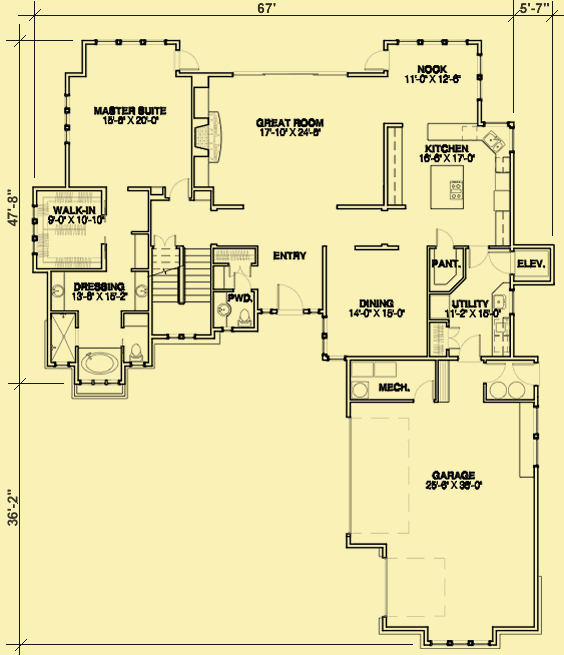door: (270, 279, 311, 314), (174, 45, 210, 79), (160, 174, 194, 205), (363, 47, 397, 78), (513, 358, 544, 388), (458, 333, 485, 366), (487, 250, 515, 281), (465, 243, 490, 273), (412, 379, 437, 408), (482, 359, 509, 385), (445, 324, 465, 354), (431, 224, 454, 247), (229, 270, 254, 291), (149, 233, 180, 248)
kitchen bar: (426, 159, 469, 215)
large sink: (125, 337, 147, 364), (236, 304, 256, 332)
small sink: (46, 270, 68, 317), (128, 269, 150, 312), (211, 291, 229, 328)
stairs: (148, 244, 213, 346)
tub: (73, 347, 120, 383)
windows: (228, 67, 354, 81), (427, 635, 494, 655), (390, 33, 472, 49), (57, 86, 76, 151), (529, 400, 545, 472), (92, 35, 172, 49), (473, 49, 489, 106), (317, 313, 334, 364)
